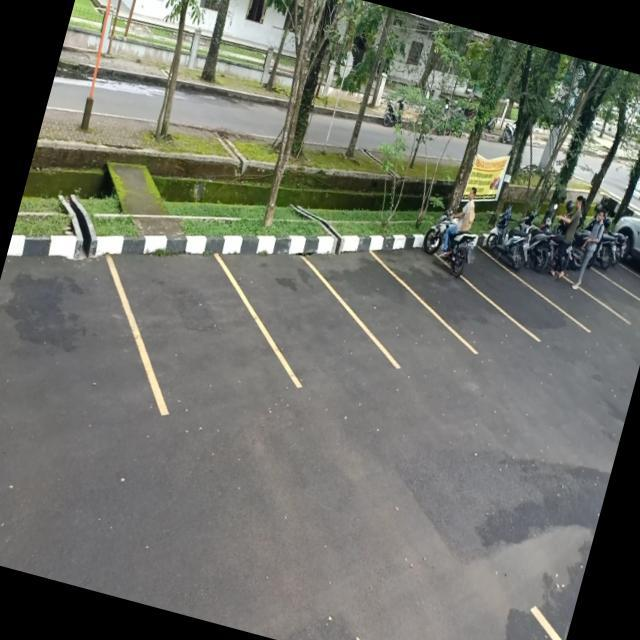empty: (0, 235, 161, 484), (112, 236, 271, 438), (232, 242, 366, 396), (332, 250, 431, 372)
